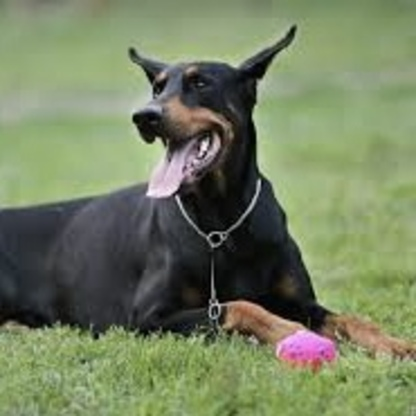doberman: (8, 26, 414, 375)
